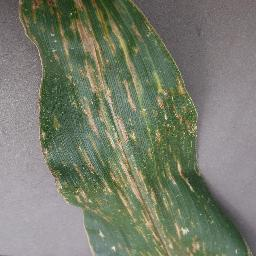Gray_Leaf_Spot: (15, 0, 193, 148), (39, 149, 254, 256)
